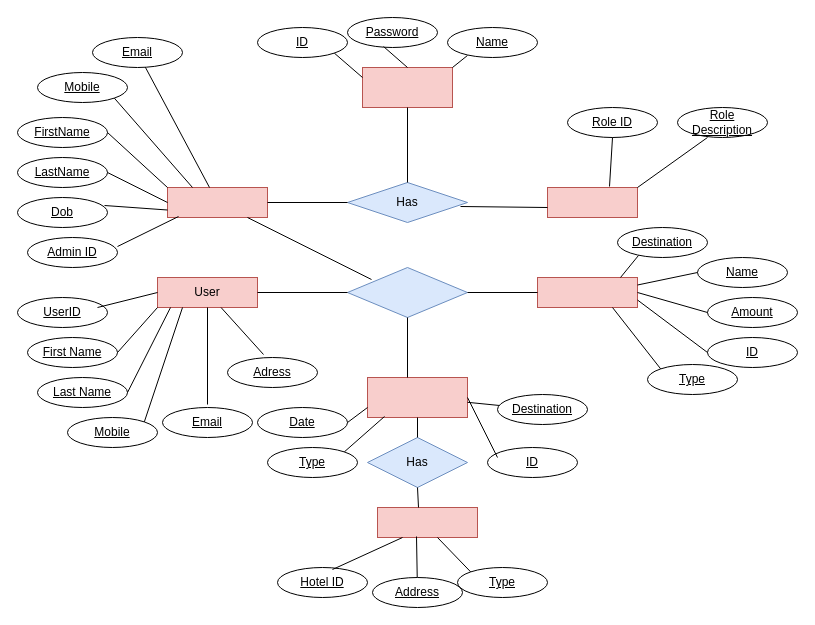
Image size: 815x625. Some labels were removed from this diagram. Each missing label, with the box of its shape:
Admin: (166, 186, 268, 218)
Booking: (366, 376, 468, 418)
Hotel: (376, 506, 478, 538)
Login: (362, 66, 452, 108)
Manage: (346, 266, 468, 318)
Package: (536, 276, 638, 308)
Roles: (546, 186, 638, 218)
